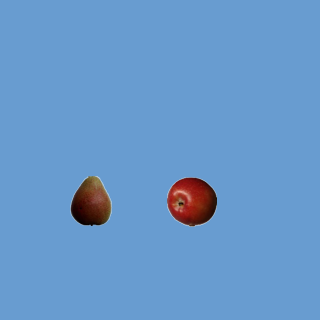Apple Braeburn: (166, 176, 216, 226)
Pear Forelle: (65, 175, 115, 225)
